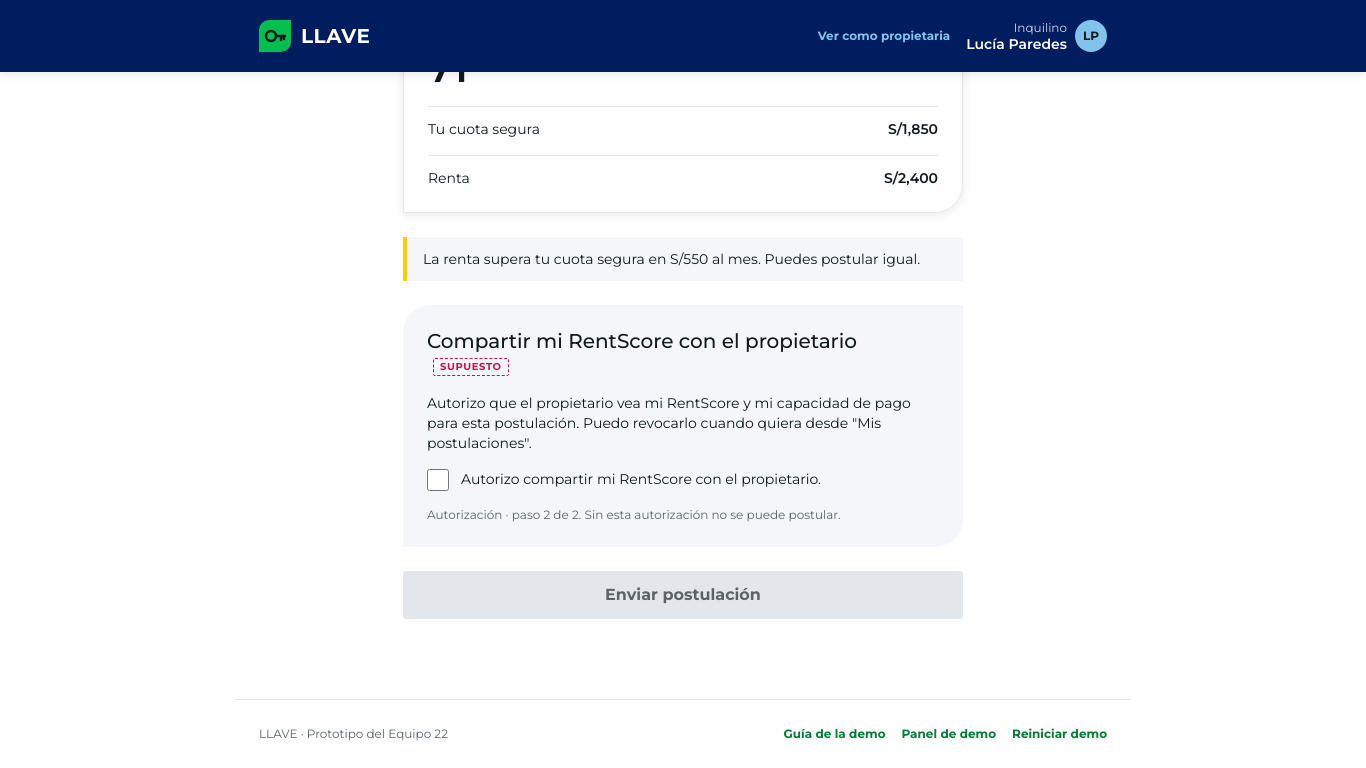
Test: journey del inquilino › una renta mayor a la cuota segura avisa pero no bloquea
(page scrolled)
Check: the text "supera tu cuota segura en S/550 al mes" is shown, box [403, 237, 963, 281]
Click the checkbox with test id "postular-compartir-checkbox" at (438, 480), box [427, 469, 449, 491]
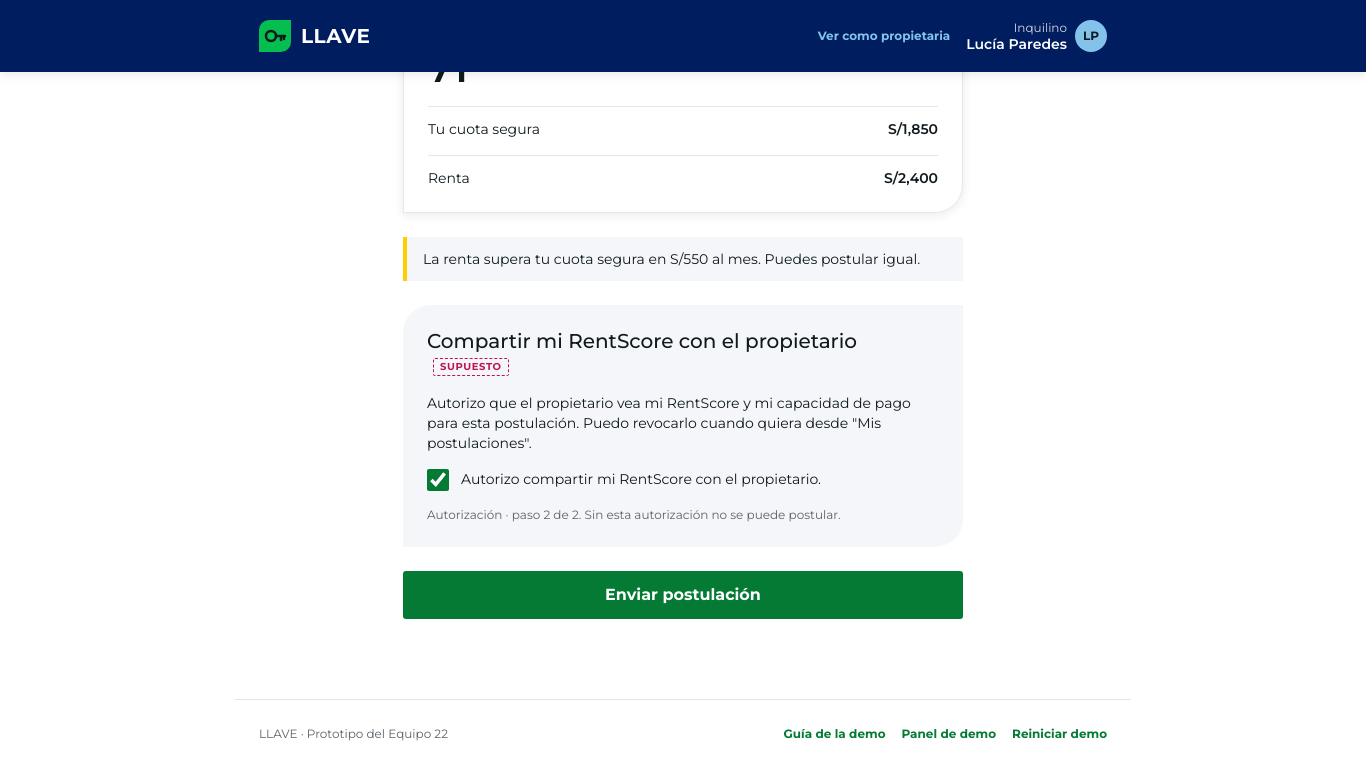
Check: the button with test id "postular-submit-button" is enabled, box [403, 571, 963, 619]
